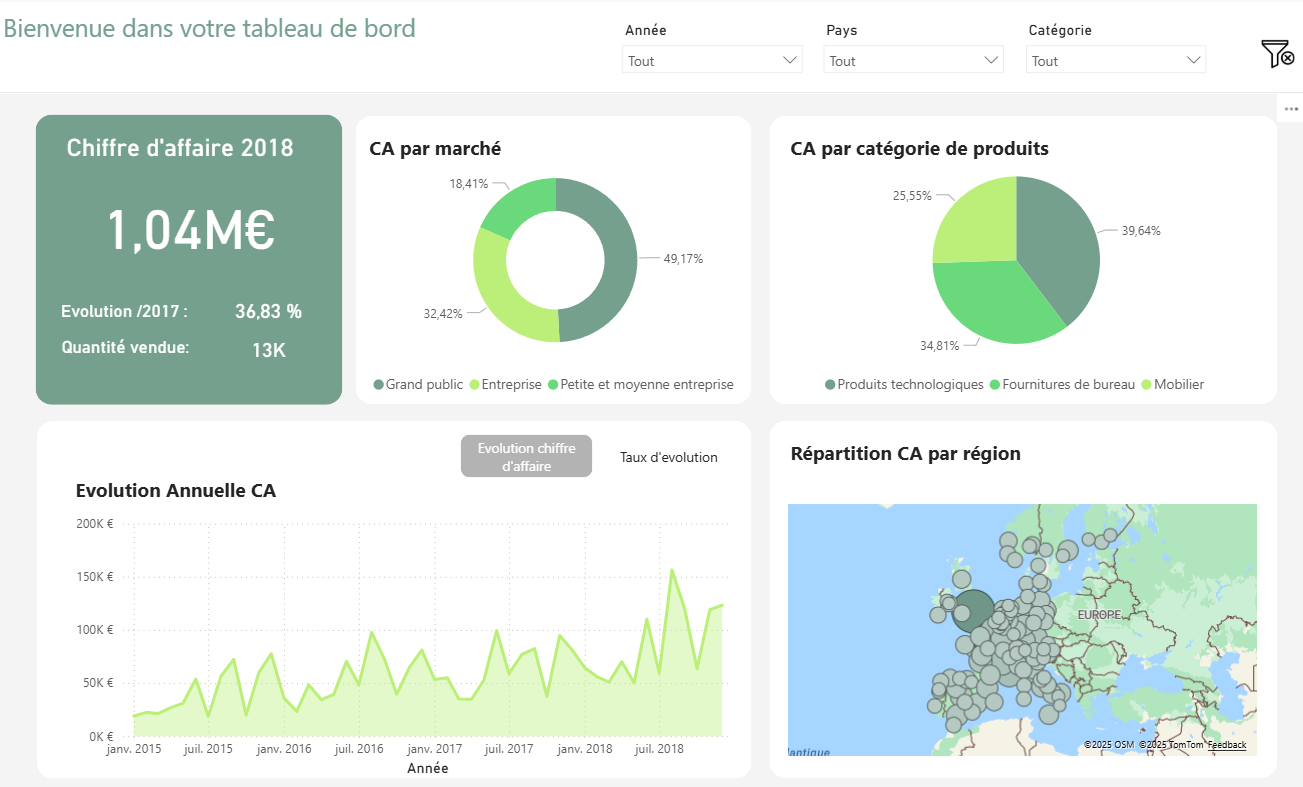

This screenshot's page, from the dashboard's own definition file:
{"tool":"powerbi","page":{"name":"Page 1","canvas":[1280,780],"ordinal":0},"visuals":[{"type":"shape","box":[0,0,1280,94.4],"z":0},{"type":"shape","box":[753,413.5,496.5,349.1],"z":1000},{"type":"shape","box":[753,116.1,496.5,281.9],"z":2000},{"type":"shape","box":[349.6,116.1,386.6,281.9],"z":3000},{"type":"shape","box":[37.5,413.3,698.2,349.7],"z":4000},{"type":"shape","box":[37.2,115.3,299.8,283.6],"z":5000},{"type":"card","fields":{"Values":["Mesures.chiffre d'affaire annuelle"]},"box":[37,165.2,300,111.2],"z":6000},{"type":"card","fields":{"Values":["Mesures.Mesure"]},"box":[36.6,116,283.3,61.1],"z":8000},{"type":"card","fields":{"Values":["Mesures.Évolution CA Annuelle %"]},"box":[189.3,286.9,150.2,40.3],"z":9000},{"type":"areaChart","fields":{"Y":["Mesures.chiffre d'affaire annuelle"],"Category":["Calendrier.Date.Variation.Hiérarchie de dates.Année","Calendrier.Date.Variation.Hiérarchie de dates.Mois"]},"box":[70.8,500.4,665.8,265.4],"z":10000},{"type":"card","fields":{"Values":["Mesures.Mesure"]},"box":[895.6,448.3,282.3,86.2],"z":11000},{"type":"card","fields":{"Values":["Mesures.TITRE EVOLUTION"]},"box":[25.6,272.3,195.4,69.6],"z":12000},{"type":"donutChart","fields":{"Category":["Achats.Segment"],"Y":["Mesures.chiffre d'affaire annuelle"]},"box":[357.4,147.1,373.7,250.8],"z":13000},{"type":"azureMap","fields":{"Category":["Achats.Région"],"Size":["Mesures.chiffre d'affaire annuelle"]},"box":[766.8,490.9,467.7,255.2],"z":14000},{"type":"textbox","box":[70.9,464.2,300,36.2],"z":15000},{"type":"bookmarkNavigator","box":[451.7,427.4,270,42.5],"z":17000},{"type":"textbox","box":[357.4,129,298.7,36.2],"z":18000},{"type":"pieChart","fields":{"Category":["Achats.Catégorie","Achats.Sous-catégorie"],"Y":["Mesures.chiffre d'affaire annuelle"]},"box":[769.8,147.1,451.2,250.8],"z":19000},{"type":"card","fields":{"Values":["Mesures.Quantite vendu"]},"box":[208.8,328.5,111.1,33],"z":20000},{"type":"textbox","box":[769.8,129,298.7,36.2],"z":21000},{"type":"textbox","box":[57.5,327.7,299.8,36.1],"z":22000},{"type":"textbox","box":[769.8,426.9,298.7,36.1],"z":23000},{"type":"slicer","fields":{"Values":["Calendrier.Date.Variation.Hiérarchie de dates.Année","Calendrier.Date.Variation.Hiérarchie de dates.Mois"]},"box":[599.9,18.1,196.5,59.5],"z":24000},{"type":"slicer","fields":{"Values":["Achats.Pays"]},"box":[796.4,18.1,196.5,59.5],"z":25000},{"type":"slicer","fields":{"Values":["Achats.Catégorie","Achats.Sous-catégorie"]},"box":[994.3,18.1,196.5,59.5],"z":26000},{"type":"image","box":[1229.6,34.2,41.5,44],"z":26001},{"type":"textbox","box":[0,0,431,78.1],"z":26002}]}

Visuals, with their boxes in screenshot pixels (x1, y1, x2, y2), scaled from the page's 1280x780 canvas onto the 1303x787 screenshot:
shape: crop(0, 0, 1302, 95)
shape: crop(767, 417, 1272, 769)
shape: crop(767, 117, 1272, 402)
shape: crop(356, 117, 749, 402)
shape: crop(38, 417, 749, 770)
shape: crop(38, 116, 343, 402)
card - Mesures.chiffre d'affaire annuelle: crop(38, 167, 343, 279)
card - Mesures.Mesure: crop(37, 117, 326, 179)
card - Mesures.Évolution CA Annuelle %: crop(193, 289, 346, 330)
areaChart - Mesures.chiffre d'affaire annuelle x Calendrier.Date.Variation.Hiérarchie de dates.Année: crop(72, 505, 750, 773)
card - Mesures.Mesure: crop(912, 452, 1199, 539)
card - Mesures.TITRE EVOLUTION: crop(26, 275, 225, 345)
donutChart - Achats.Segment x Mesures.chiffre d'affaire annuelle: crop(364, 148, 744, 401)
azureMap - Achats.Région x Mesures.chiffre d'affaire annuelle: crop(781, 495, 1257, 753)
textbox: crop(72, 468, 378, 505)
bookmarkNavigator: crop(460, 431, 735, 474)
textbox: crop(364, 130, 668, 167)
pieChart - Achats.Catégorie x Achats.Sous-catégorie: crop(784, 148, 1243, 401)
card - Mesures.Quantite vendu: crop(213, 331, 326, 365)
textbox: crop(784, 130, 1088, 167)
textbox: crop(59, 331, 364, 367)
textbox: crop(784, 431, 1088, 467)
slicer - Calendrier.Date.Variation.Hiérarchie de dates.Année x Calendrier.Date.Variation.Hiérarchie de dates.Mois: crop(611, 18, 811, 78)
slicer - Achats.Pays: crop(811, 18, 1011, 78)
slicer - Achats.Catégorie x Achats.Sous-catégorie: crop(1012, 18, 1212, 78)
image: crop(1252, 35, 1294, 79)
textbox: crop(0, 0, 439, 79)
